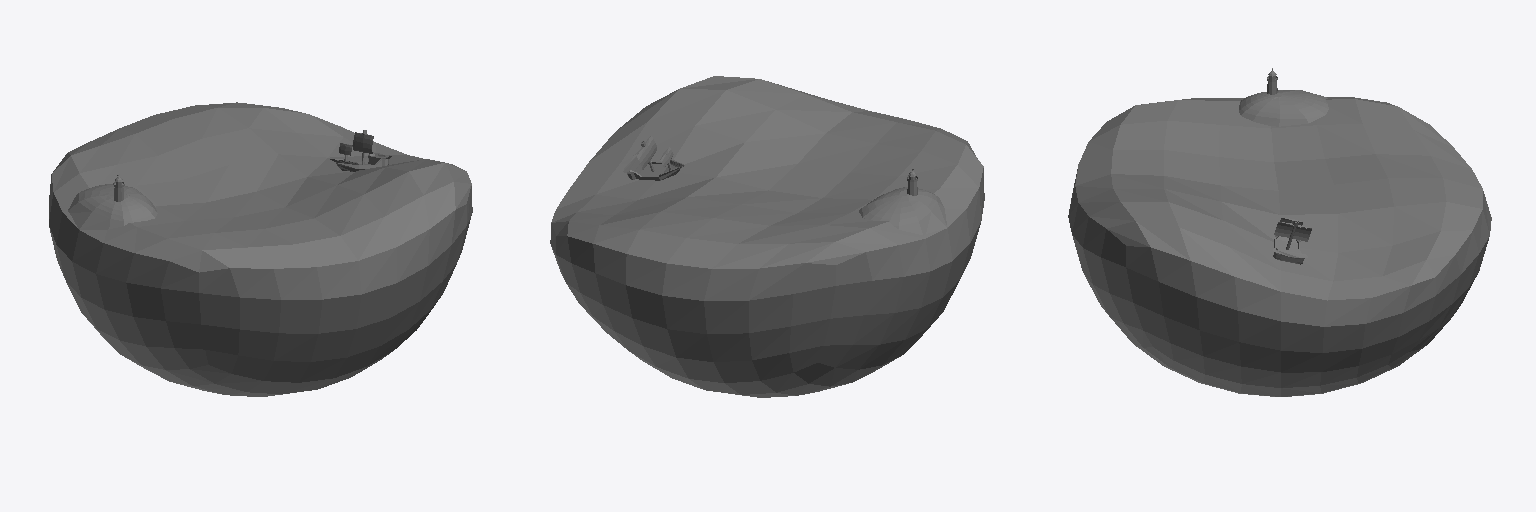
The model's file is RagingWaterSet.obj.
3 renders of one model, left to right at view 1: azimuth 30°, elevation 25°; view 2: azimuth 150°, elevation 25°; view 3: azimuth 270°, elevation 25°, orthographic.
Parts seen in each view (by area): view 1: pPlane2, IslandSet:loftedSurface3, boat_OBJ:pCube3; view 2: pPlane2, IslandSet:loftedSurface3, boat_OBJ:pCube3; view 3: pPlane2, IslandSet:loftedSurface3, boat_OBJ:pCube3.
Boxes of the visible parts, <box> form: pPlane2: <box>49,102,472,396</box>; IslandSet:loftedSurface3: <box>68,184,157,229</box>; boat_OBJ:pCube3: <box>330,130,391,171</box>; pPlane2: <box>550,76,984,397</box>; IslandSet:loftedSurface3: <box>859,187,947,235</box>; boat_OBJ:pCube3: <box>623,136,684,180</box>; pPlane2: <box>1068,97,1491,396</box>; IslandSet:loftedSurface3: <box>1239,90,1328,126</box>; boat_OBJ:pCube3: <box>1273,218,1311,264</box>.
Size of the model in its own units: 5.3 by 3.26 by 5.27.